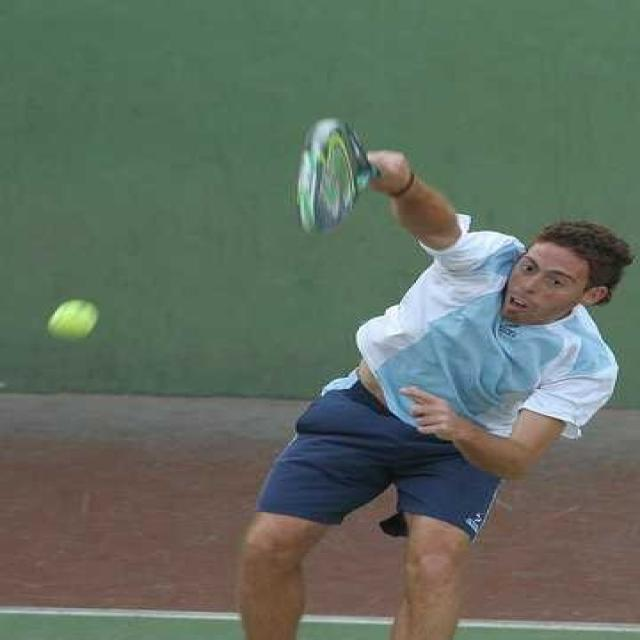Tennis_Ball: (46, 301, 104, 342)
